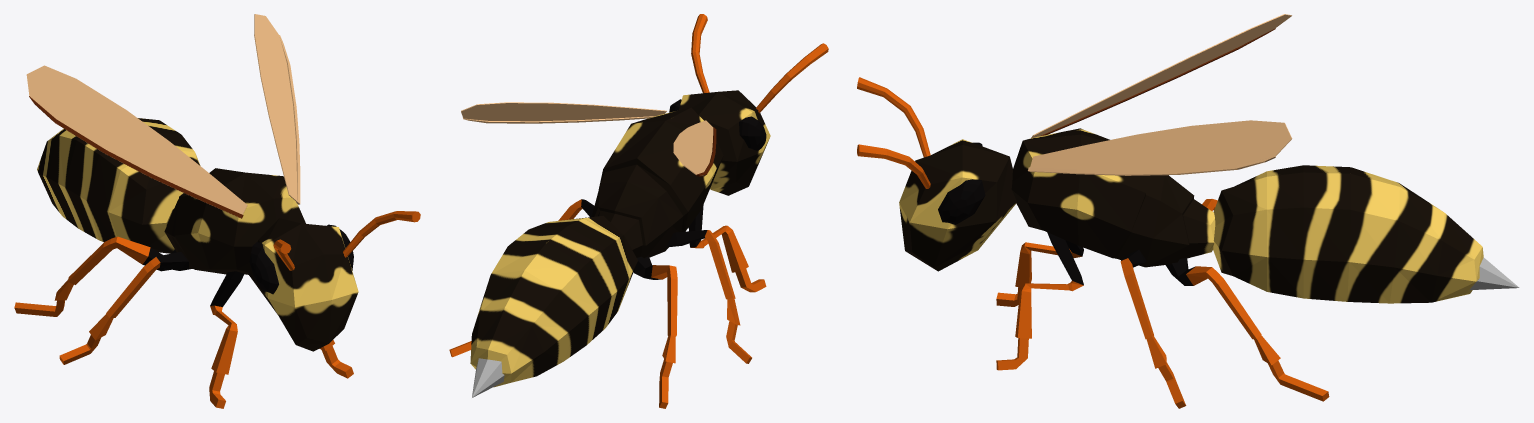
File: wasp.obj
The picture shows the model from 3 angles, left to right: view 1: azimuth 30°, elevation 25°; view 2: azimuth 150°, elevation 25°; view 3: azimuth 270°, elevation 25°; orthographic projection. The views are drawn at different scales.
Size of the model in its own units: 2.79 by 2.5 by 5.48.
Materials: 8 (1 with a texture image).
